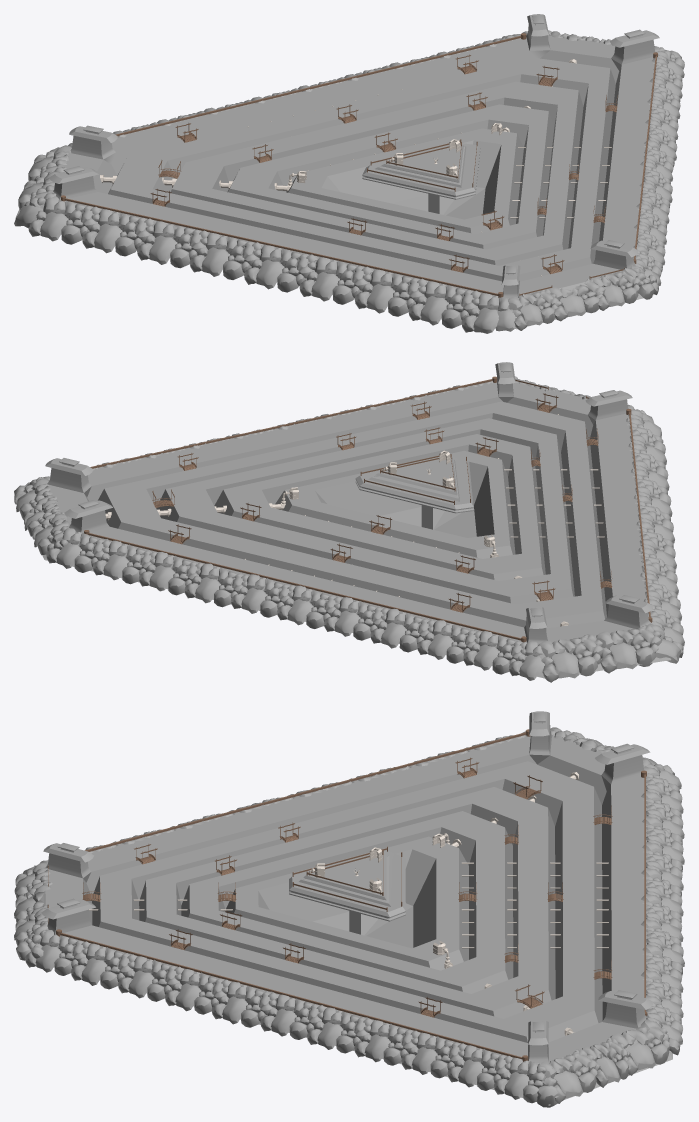
File: Air_level_complete.fbx
3 views of the same model, one above another, from view 1: azimuth 30°, elevation 25°; view 2: azimuth 150°, elevation 25°; view 3: azimuth 270°, elevation 25° (orthographic). The views are drawn at different scales.
Parts seen in each view (by area): view 1: Platform, Rocks, Platform_fences_1, Bridges, Teleports; view 2: Platform, Rocks, Bridges, Platform_fences_1, Teleports; view 3: Platform, Rocks, Bridges, Platform_fences_1, Teleports, Pipes_small.
Boxes of the visible parts, x1,y1,x2,y2 form: Platform: [15, 14, 659, 329]; Rocks: [14, 30, 684, 333]; Platform_fences_1: [61, 33, 657, 297]; Bridges: [150, 54, 617, 274]; Teleports: [100, 59, 576, 191]; Platform: [42, 362, 671, 678]; Rocks: [14, 376, 684, 682]; Bridges: [152, 393, 612, 612]; Platform_fences_1: [84, 376, 652, 642]; Teleports: [105, 450, 568, 626]; Platform: [19, 711, 672, 1105]; Rocks: [14, 727, 684, 1107]; Bridges: [82, 757, 612, 1017]; Platform_fences_1: [47, 729, 647, 1061]; Teleports: [309, 772, 578, 1035]; Pipes_small: [89, 862, 608, 948].
Size of the model in its own units: 1458 by 144 by 1128.
